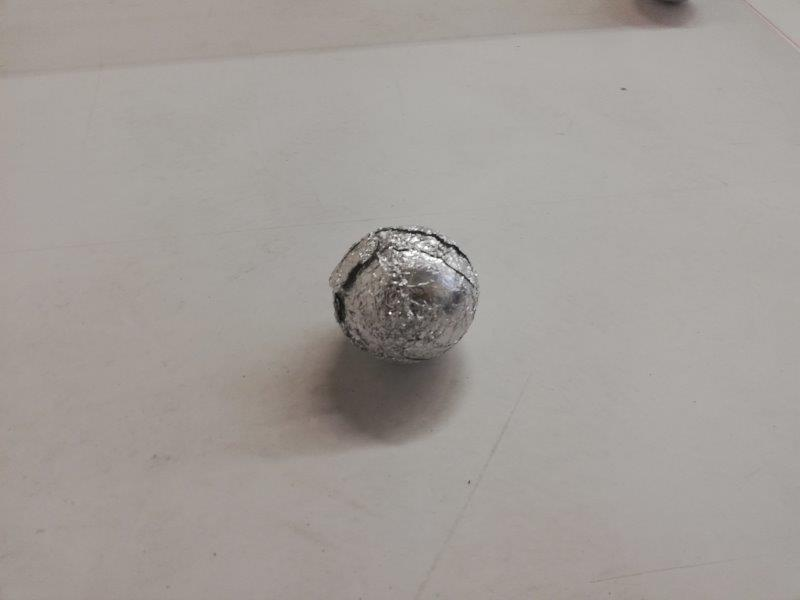bianca: (329, 223, 480, 367)
